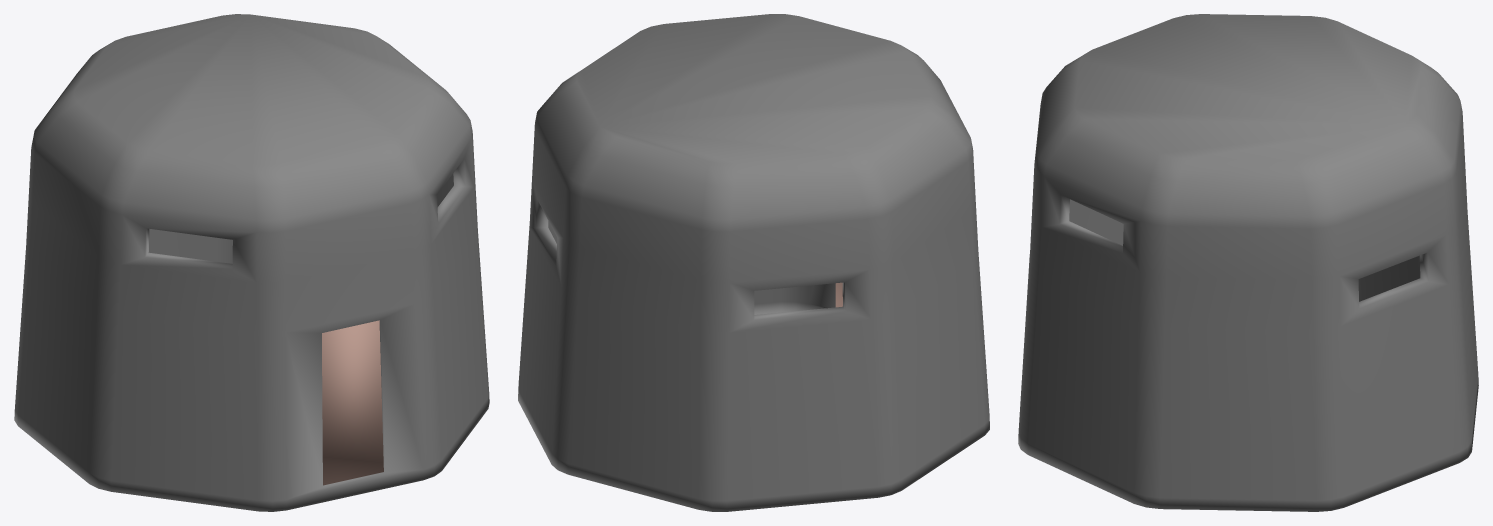
Rendered from bunker_5.fbx.
The picture shows the model from 3 angles, left to right: view 1: azimuth 30°, elevation 25°; view 2: azimuth 150°, elevation 25°; view 3: azimuth 270°, elevation 25°; orthographic projection.
Parts seen in each view (by area): view 1: Bunker_02; view 2: Bunker_02; view 3: Bunker_02.
Boxes of the visible parts, x1,y1,x2,y2 form: Bunker_02: (14, 14, 489, 511); Bunker_02: (518, 14, 989, 511); Bunker_02: (1018, 14, 1478, 511).
Size of the model in its own units: 150 by 150 by 117.
